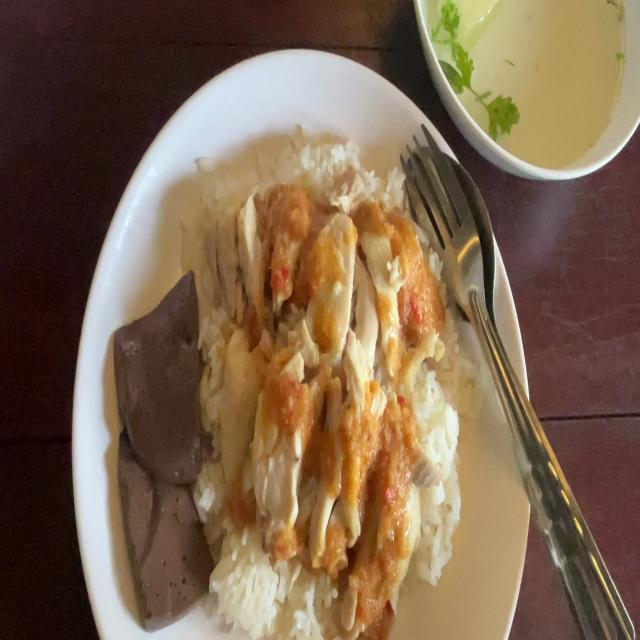boiled_chicken: (213, 201, 418, 541)
boiled_chicken_blood_jelly: (115, 257, 202, 494), (118, 431, 204, 622)
chicken_rice: (117, 143, 456, 640)
